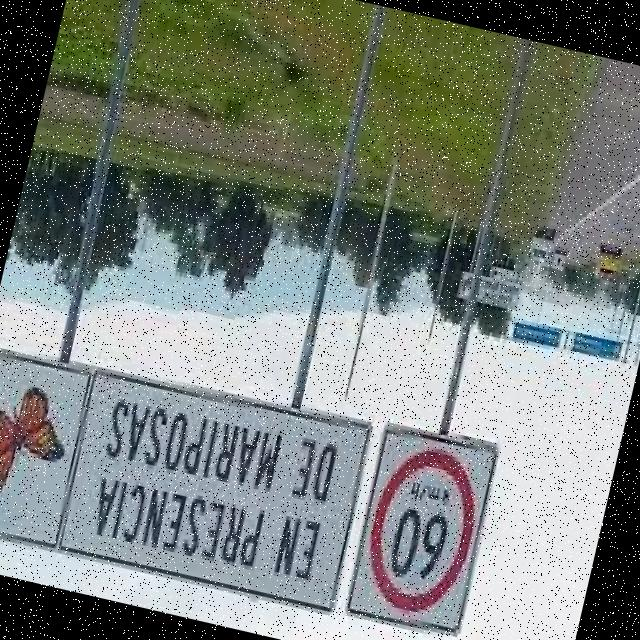speed_limit_60: (351, 442, 490, 622)
